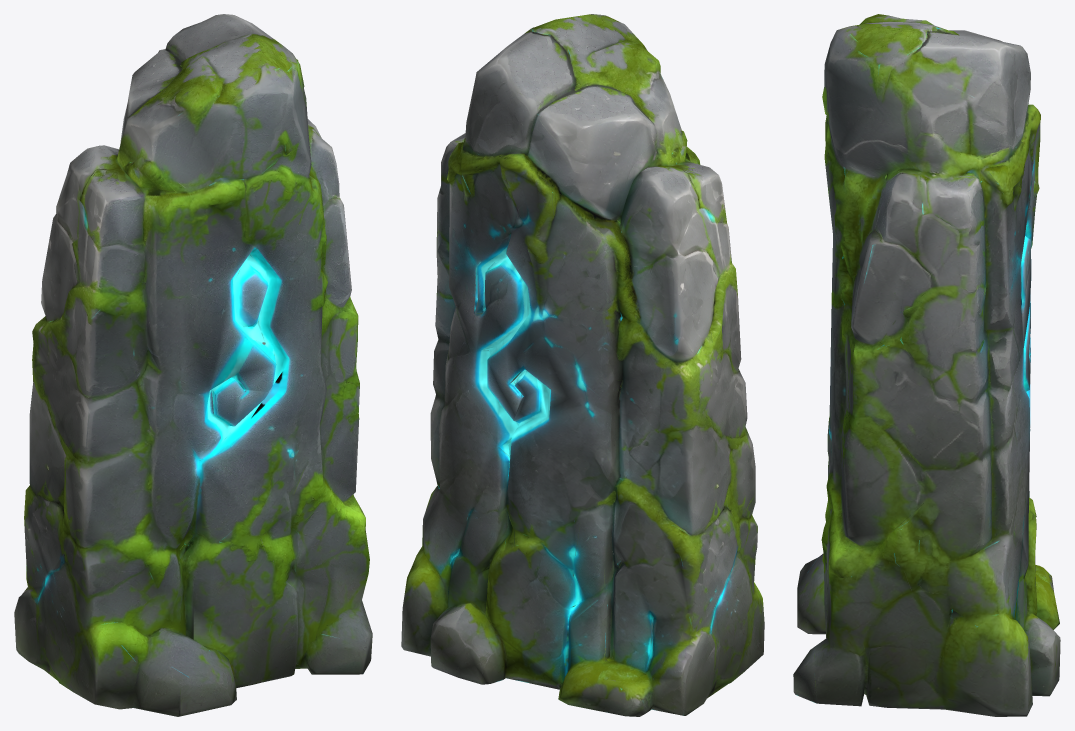
The model's file is Meshy_AI_Luminous_Mossstone_Ob_0619053030_texture.fbx.
3 views of the same model, side by side, from view 1: azimuth 30°, elevation 25°; view 2: azimuth 150°, elevation 25°; view 3: azimuth 270°, elevation 25° (orthographic). The views are drawn at different scales.
Visible parts, largest first — view 1: Mesh1.0; view 2: Mesh1.0; view 3: Mesh1.0.
Part boxes in pixels (x1=…): Mesh1.0: x1=14, y1=14, x2=372, y2=716; Mesh1.0: x1=401, y1=14, x2=764, y2=716; Mesh1.0: x1=793, y1=14, x2=1060, y2=716.
Bounding box in the file's own units: 94.65 × 191 × 72.33.
Materials: 1 (1 with a texture image).
